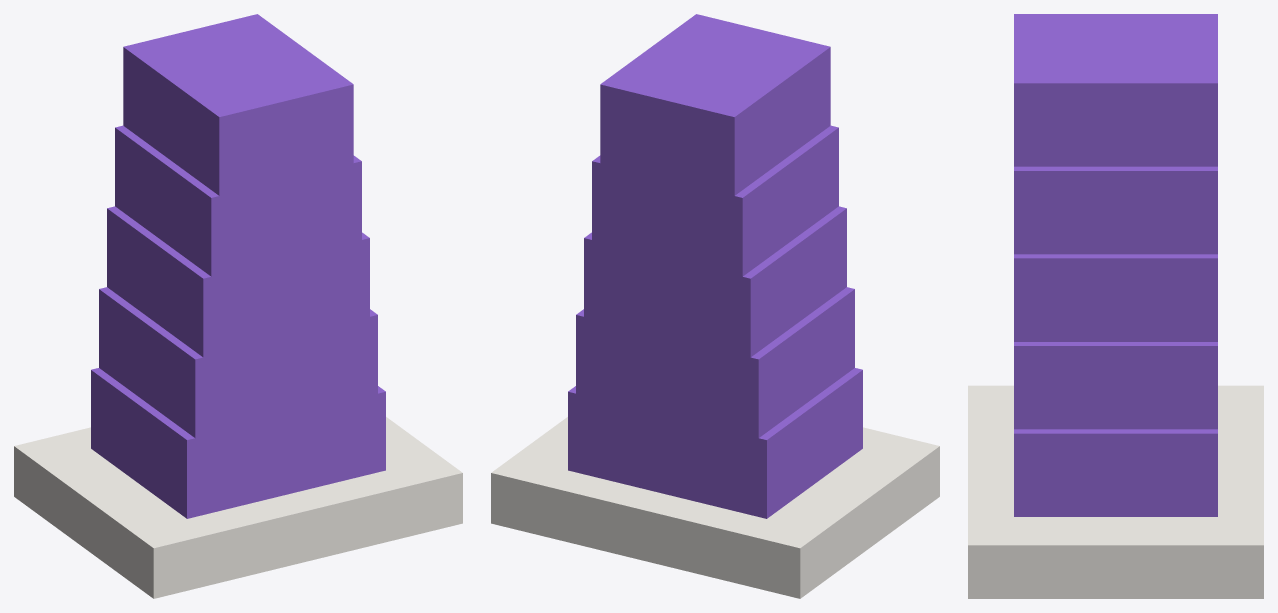
The model's file is art_easel-lv5.glb.
3 renders of one model, left to right at view 1: azimuth 30°, elevation 25°; view 2: azimuth 150°, elevation 25°; view 3: azimuth 270°, elevation 25°, orthographic. The views are drawn at different scales.
Parts seen in each view (by area): view 1: Base, Level5, Level1, Level2, Level3, Level4; view 2: Base, Level5, Level1, Level2, Level3, Level4; view 3: Base, Level5, Level4, Level1, Level2, Level3.
Part boxes in pixels (x1,y1,x2,y2): Base: (14,417,462,598); Level5: (123,14,353,195); Level1: (91,368,385,518); Level2: (99,287,377,438); Level3: (107,206,369,357); Level4: (115,125,361,276); Base: (491,417,939,598); Level5: (600,14,830,195); Level1: (568,368,862,518); Level2: (576,287,854,438); Level3: (584,206,846,357); Level4: (592,125,838,276); Base: (968,385,1263,598); Level5: (1014,14,1217,166); Level4: (1014,166,1217,254); Level1: (1014,429,1217,516); Level2: (1014,342,1217,429); Level3: (1014,254,1217,341).
Bounding box in the file's own units: 1.15 × 1.58 × 0.9.
